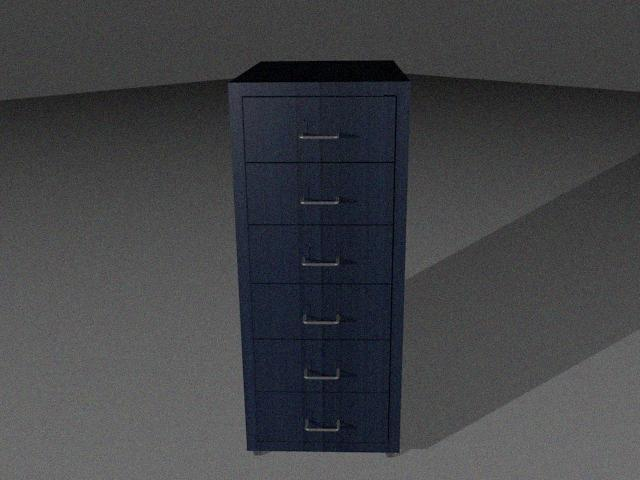cabinet_door: (244, 96, 396, 162), (246, 162, 394, 224), (249, 224, 393, 284), (252, 284, 392, 340), (254, 340, 390, 394), (257, 394, 390, 442)
handle: (291, 183, 346, 215), (298, 352, 346, 386), (295, 244, 347, 275), (294, 119, 345, 148), (300, 409, 345, 439), (298, 305, 346, 332)
